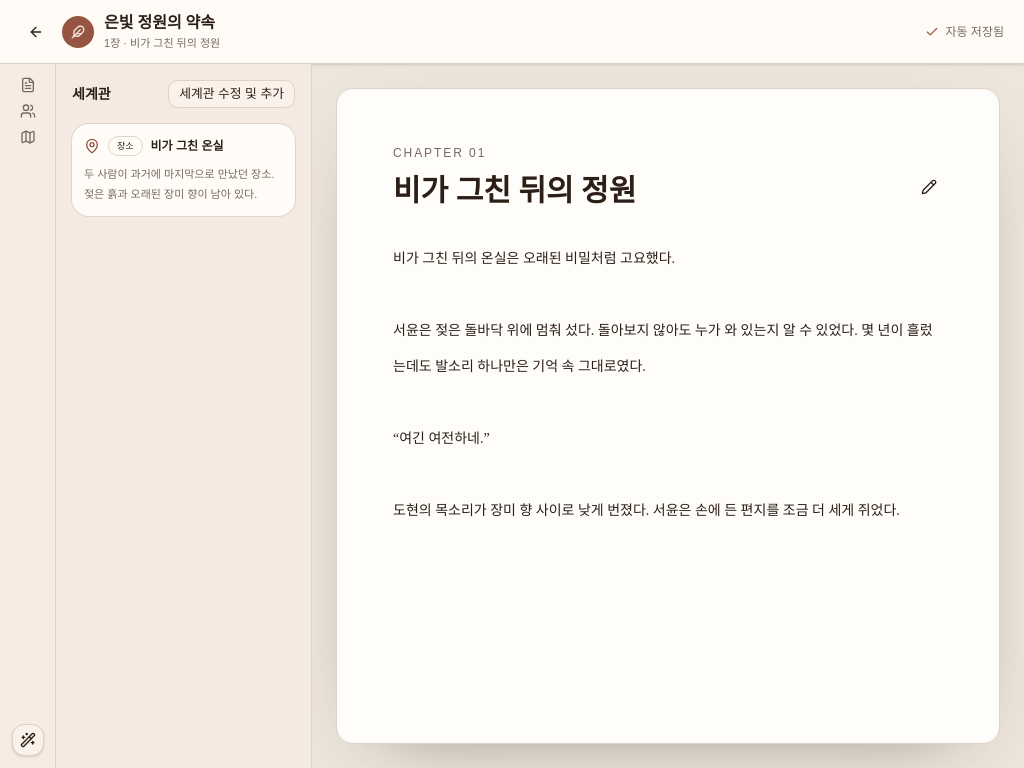
Test: WritingWorkspacePage › discards a confirmed close draft and reopens from the authoritative snapshot
Click the button "세계관 수정 및 추가" at (232, 94), box left=168, top=80, right=295, bottom=108
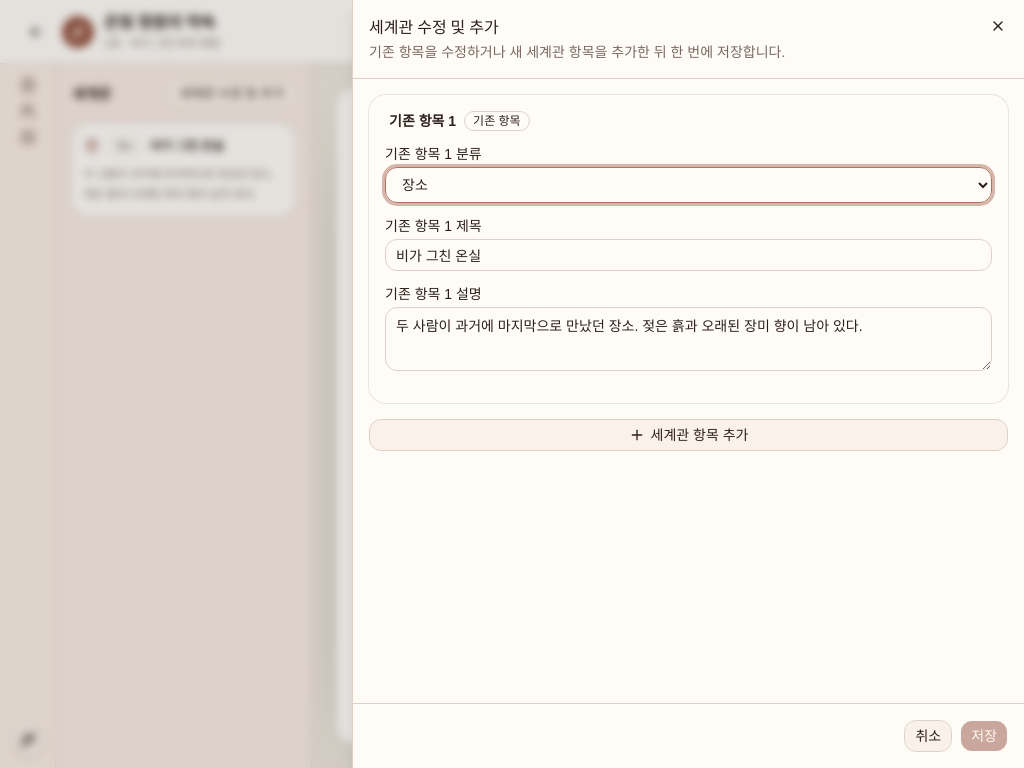
Replace the text in the field labelled "기존 항목 1 제목" with "폐기할 로컬 초안" at (688, 255), box left=385, top=239, right=992, bottom=271
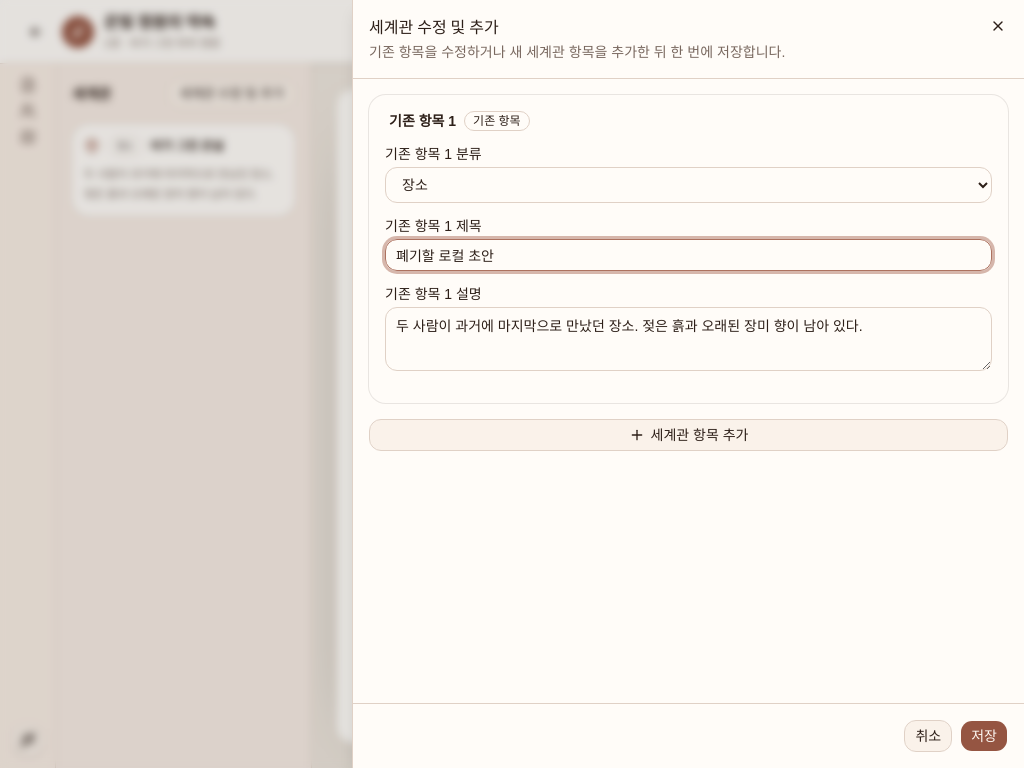
Click the button named "세계관 편집기 닫기" at (998, 26), box left=984, top=12, right=1012, bottom=40
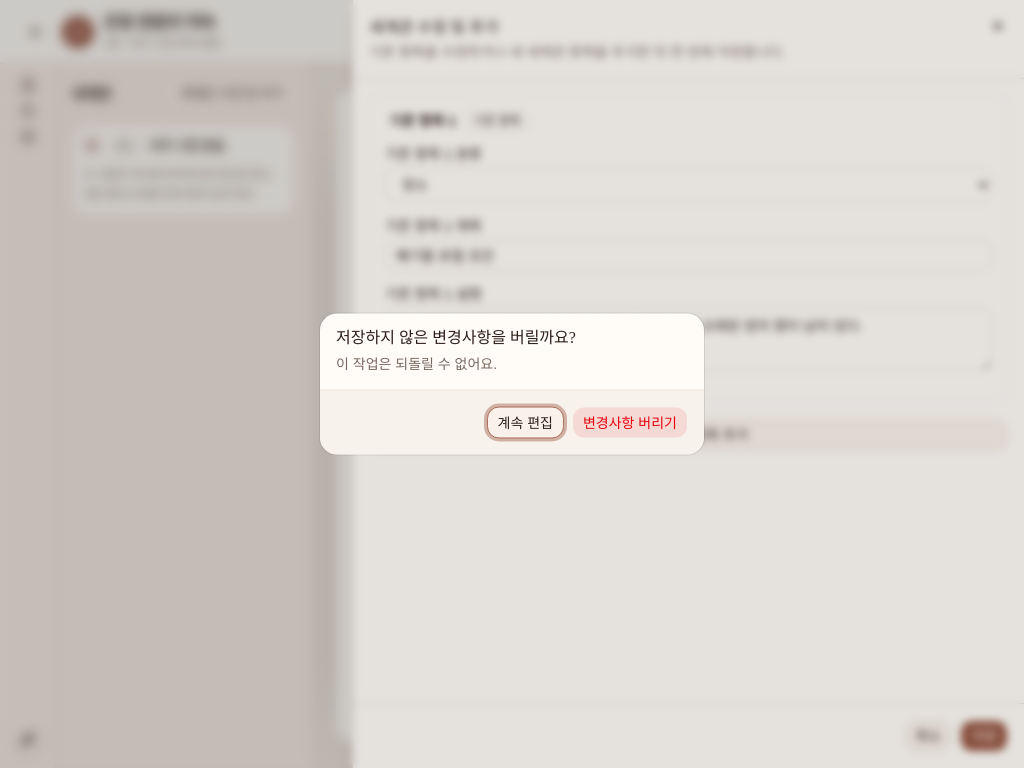
Click the button "변경사항 버리기" at (630, 422), box left=572, top=406, right=688, bottom=438
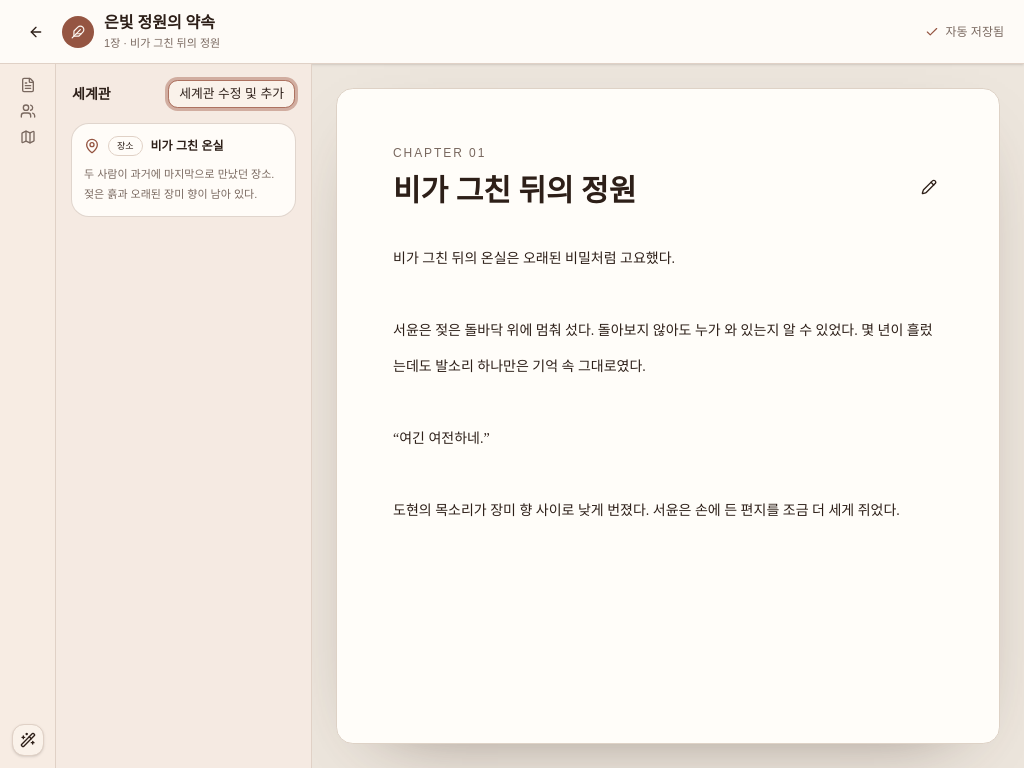
Click the button "세계관 수정 및 추가" at (232, 94), box left=168, top=80, right=295, bottom=108
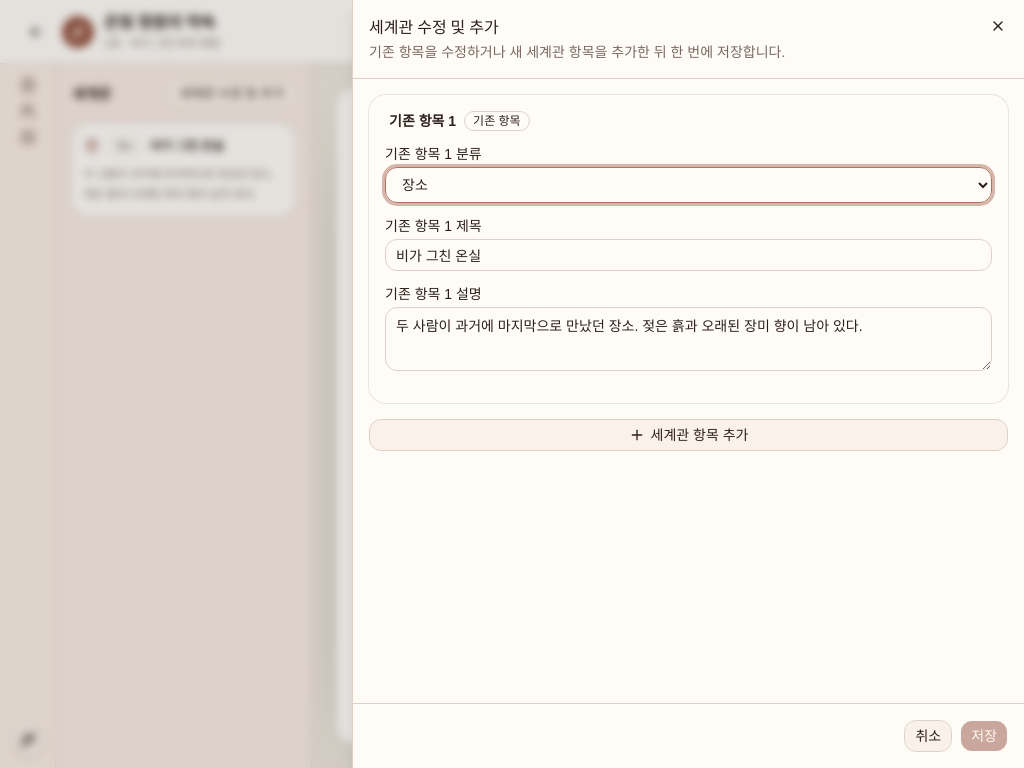
Now the field labelled "기존 항목 1 제목" holds "비가 그친 온실", box left=385, top=239, right=992, bottom=271
